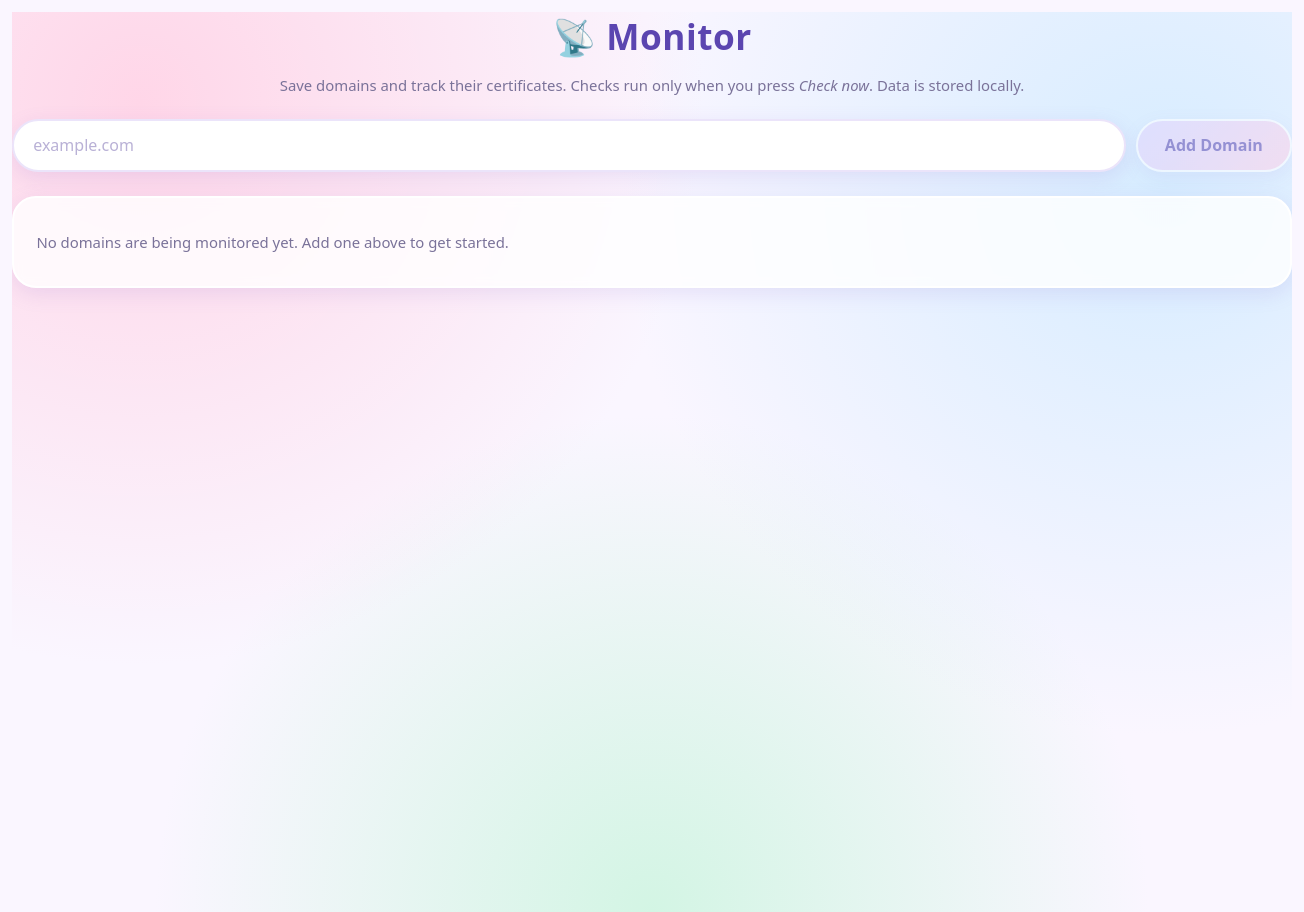
Test: MonitorPage › adds a domain, clears the input and refreshes the list
Check: the text "No domains" is shown, box top-left (36, 232), bottom-right (509, 252)
Type "new.example.com" into the field named "domain name" at (569, 146), box top-left (12, 119), bottom-right (1126, 172)
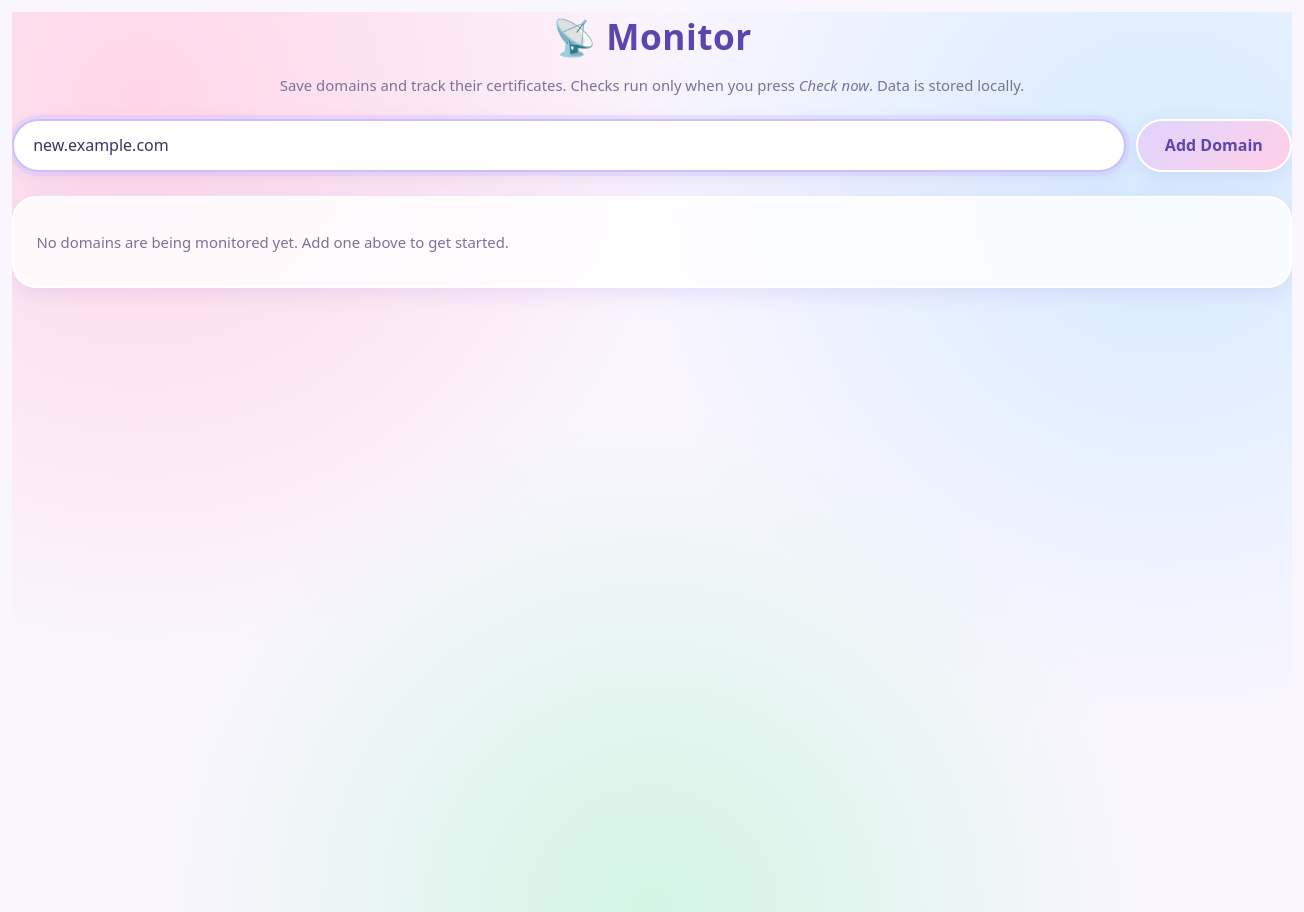
Click the button "Add Domain" at (1214, 146), box top-left (1136, 119), bottom-right (1292, 172)
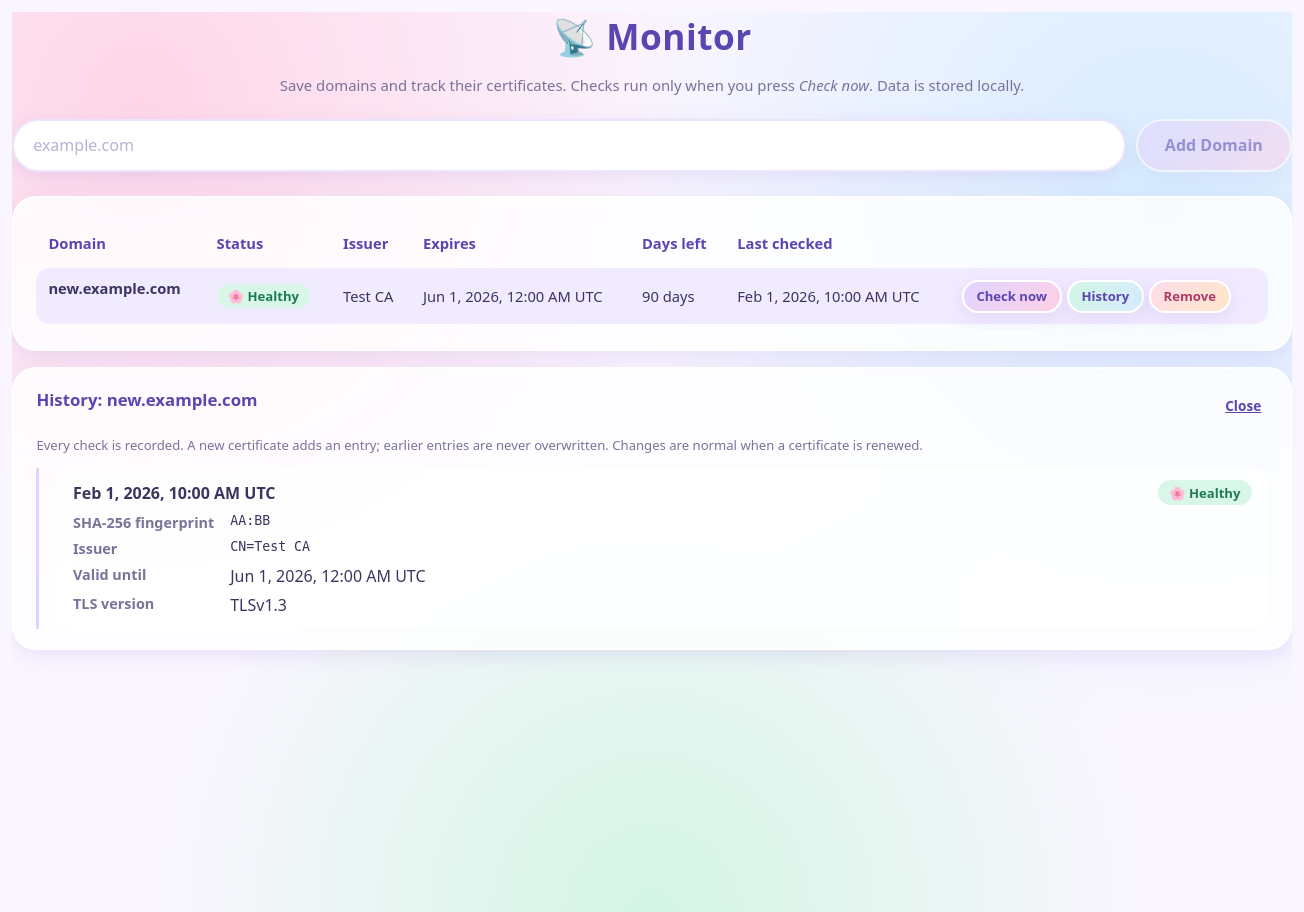
Check: the row with test id "row-new.example.com" is shown, box top-left (36, 268), bottom-right (1268, 324)
Check: the field named "domain name" is empty, box top-left (12, 119), bottom-right (1126, 172)
Check: the element named "history for new.example.com" is shown, box top-left (12, 367), bottom-right (1292, 650)
